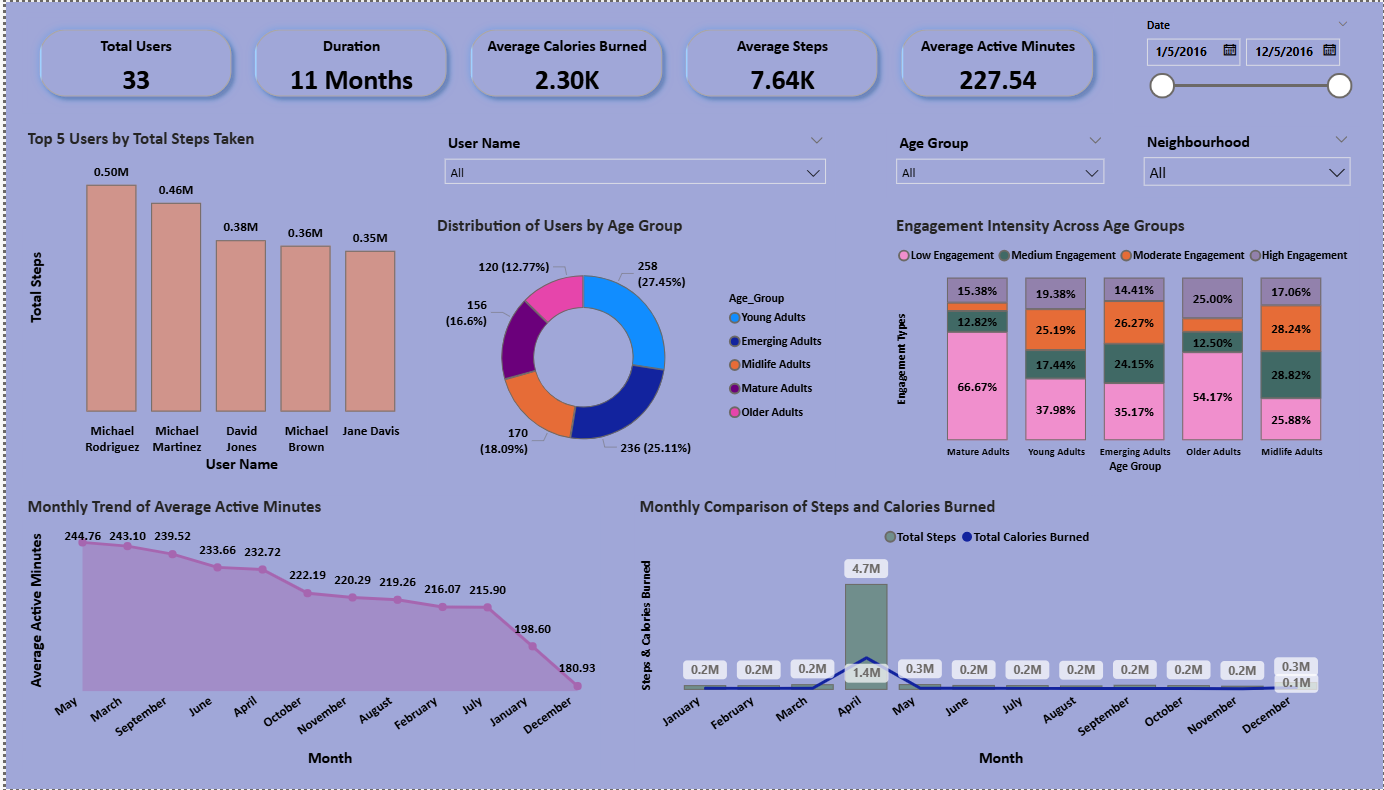

The page's visual inventory and layout, read from the dashboard file:
{"tool":"powerbi","page":{"name":"Engagement Overview","canvas":[1400,800],"ordinal":0},"visuals":[{"type":"cardVisual","fields":{"Data":["Count(user_activity.UserID)","user_activity.Duration","Avg(user_activity.Calories_Burned)","Avg(user_activity.Steps)","Avg(user_activity.Active_Minutes)"]},"box":[16.6,9.9,1109.6,102.7],"z":0},{"type":"slicer","fields":{"Values":["user_activity.Date"]},"box":[1146,10.5,229.8,102.1],"z":4000},{"type":"slicer","fields":{"Values":["user_activity.Age_Group"]},"box":[895.1,127.7,231.3,70.6],"z":5000},{"type":"slicer","fields":{"Values":["user_activity.Neighbourhood"]},"box":[1146,126.2,229.8,72.1],"z":7000},{"type":"slicer","fields":{"Values":["user_activity.User Name"]},"box":[435.6,127.7,407,70.6],"z":8000},{"type":"hundredPercentStackedColumnChart","title":"Engagement Intensity Across Age Groups","fields":{"Category":["user_activity.Age_Group"],"Y":["user_activity.Low Engagement","user_activity.Medium Engagement","user_activity.Moderate Engagement","user_activity.High Engagement"]},"box":[899.6,216.3,476.1,267.3],"z":9000},{"type":"areaChart","title":"Monthly Trend of Average Active Minutes","fields":{"Category":["user_activity.Month"],"Y":["Avg(user_activity.Active_Minutes)"]},"box":[16.5,501.6,587.2,280.9],"z":10000},{"type":"donutChart","title":"Distribution of Users by Age Group","fields":{"Category":["user_activity.Age_Group"],"Y":["CountNonNull(user_activity.User Name)"]},"box":[432.5,216.3,410,267.3],"z":11000},{"type":"lineStackedColumnComboChart","title":"Monthly Comparison of Steps and Calories Burned","fields":{"Category":["user_activity.Date.Variation.Date Hierarchy.Month"],"Y":["Sum(user_activity.Steps)"],"Y2":["Sum(user_activity.Calories_Burned)"]},"box":[638.9,501.7,721.2,280.6],"z":12000},{"type":"columnChart","title":"Top 5 Users by Total Steps Taken","fields":{"Category":["user_activity.User Name"],"Y":["Sum(user_activity.Steps)"]},"box":[16.8,128.1,411.7,355.3],"z":13000}]}

Visuals, with their boxes in screenshot pixels (x1, y1, x2, y2), scaled from the page's 1400x800 canvas onto the 1384x790 screenshot:
cardVisual - Count(user_activity.UserID) x user_activity.Duration: <box>16,10,1113,111</box>
slicer - user_activity.Date: <box>1133,10,1360,111</box>
slicer - user_activity.Age_Group: <box>885,126,1114,196</box>
slicer - user_activity.Neighbourhood: <box>1133,125,1360,196</box>
slicer - user_activity.User Name: <box>431,126,833,196</box>
"Engagement Intensity Across Age Groups" hundredPercentStackedColumnChart: <box>889,214,1360,478</box>
"Monthly Trend of Average Active Minutes" areaChart: <box>16,495,597,773</box>
"Distribution of Users by Age Group" donutChart: <box>428,214,833,478</box>
"Monthly Comparison of Steps and Calories Burned" lineStackedColumnComboChart: <box>632,495,1345,773</box>
"Top 5 Users by Total Steps Taken" columnChart: <box>17,126,424,477</box>
